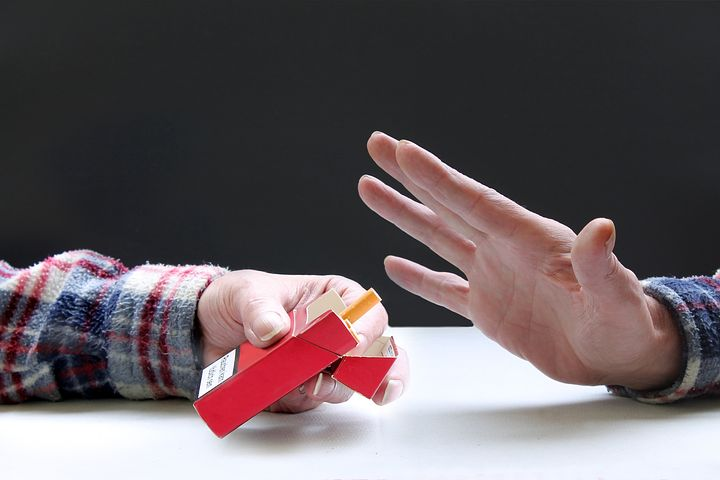palmhand: (374, 142, 651, 387)
